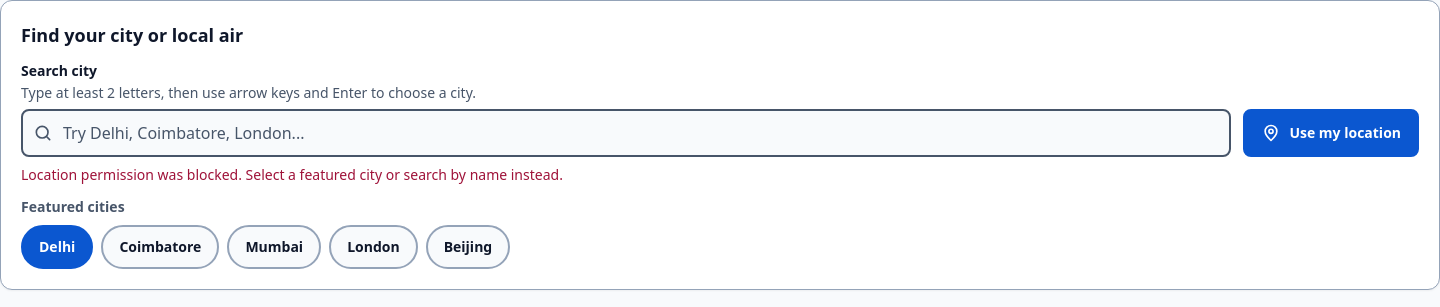
Scenario: CitySearchBar supports ARIA keyboard navigation, mouseDown selection, and axe checks
Later steps or results of the test are not shown.
expect the text "Location permission was blocked" is shown: met, box left=21, top=165, right=563, bottom=184
Step 1. Click the dropdown → coordinates (626, 133), box left=21, top=109, right=1231, bottom=157
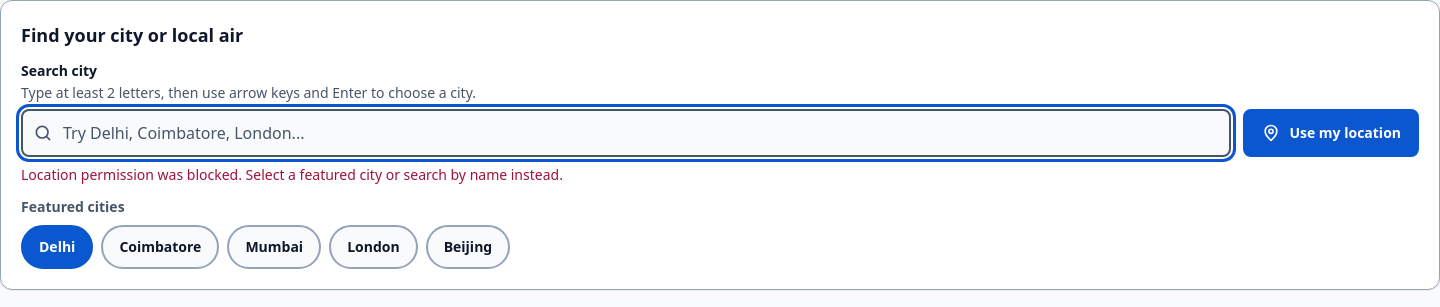
Step 2. Press Arrowdown Arrowup Enter
Step 3. Type "Mum" into the dropdown → coordinates (626, 133), box left=21, top=109, right=1231, bottom=157
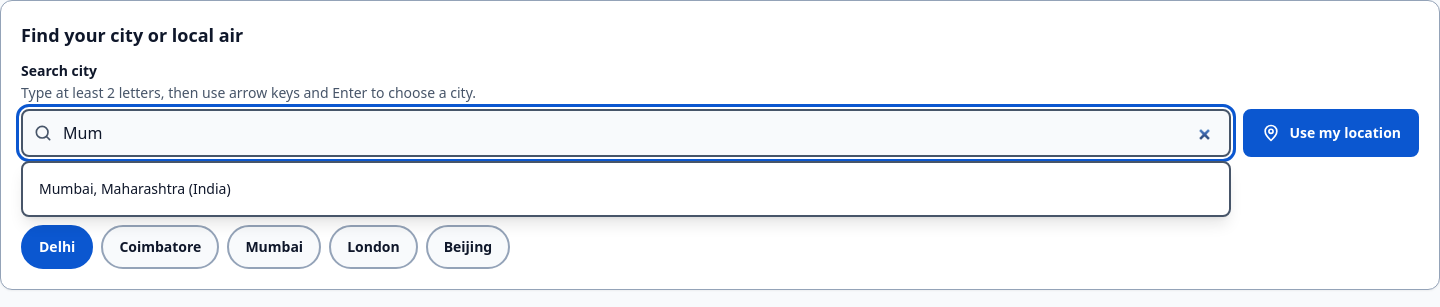
expect the list is shown: met, box left=21, top=161, right=1231, bottom=217
Step 4. Press Arrowdown Arrowup Arrowdown Enter
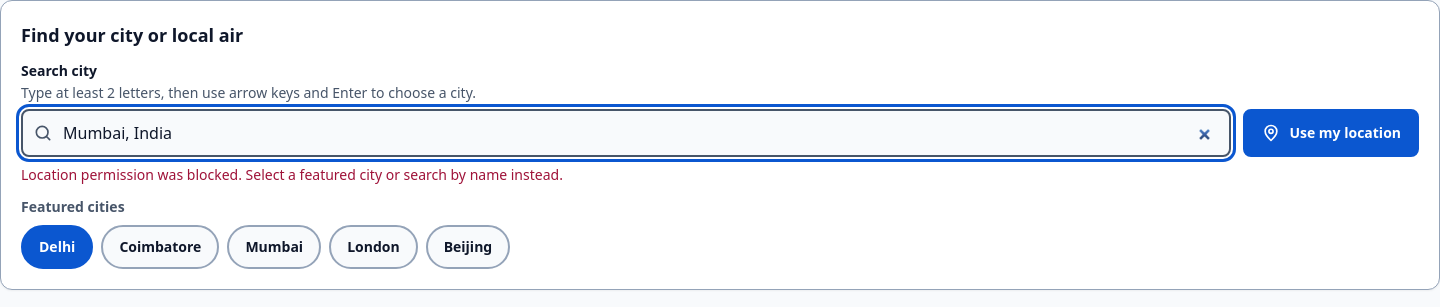
Step 5. Type "Mum" into the dropdown → coordinates (626, 133), box left=21, top=109, right=1231, bottom=157
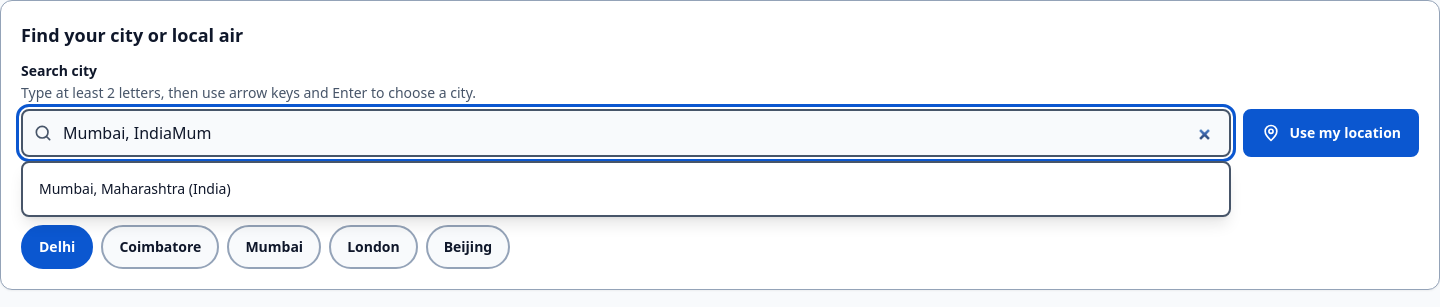
expect the option "Mumbai, Maharashtra (India)" is shown: met, box left=39, top=179, right=231, bottom=198
